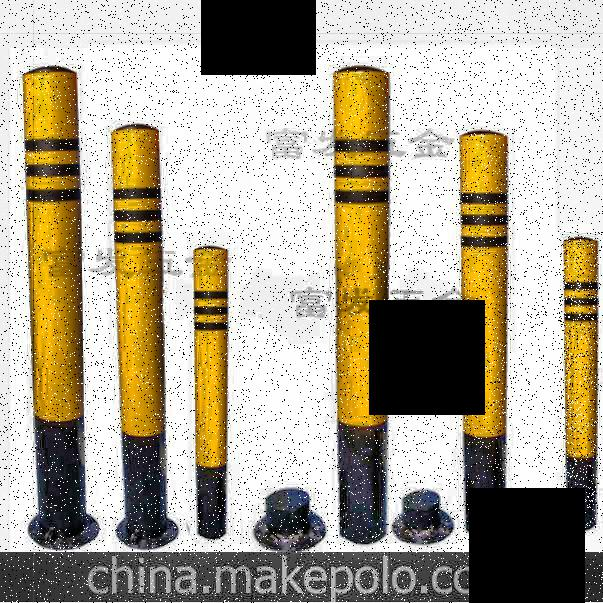bench: (326, 59, 397, 544), (453, 124, 516, 542), (559, 232, 599, 530)
